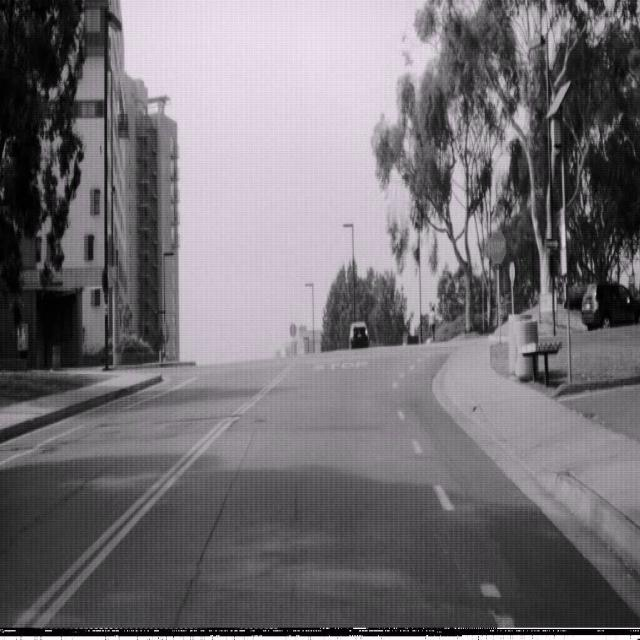stop: (488, 229, 507, 265)
